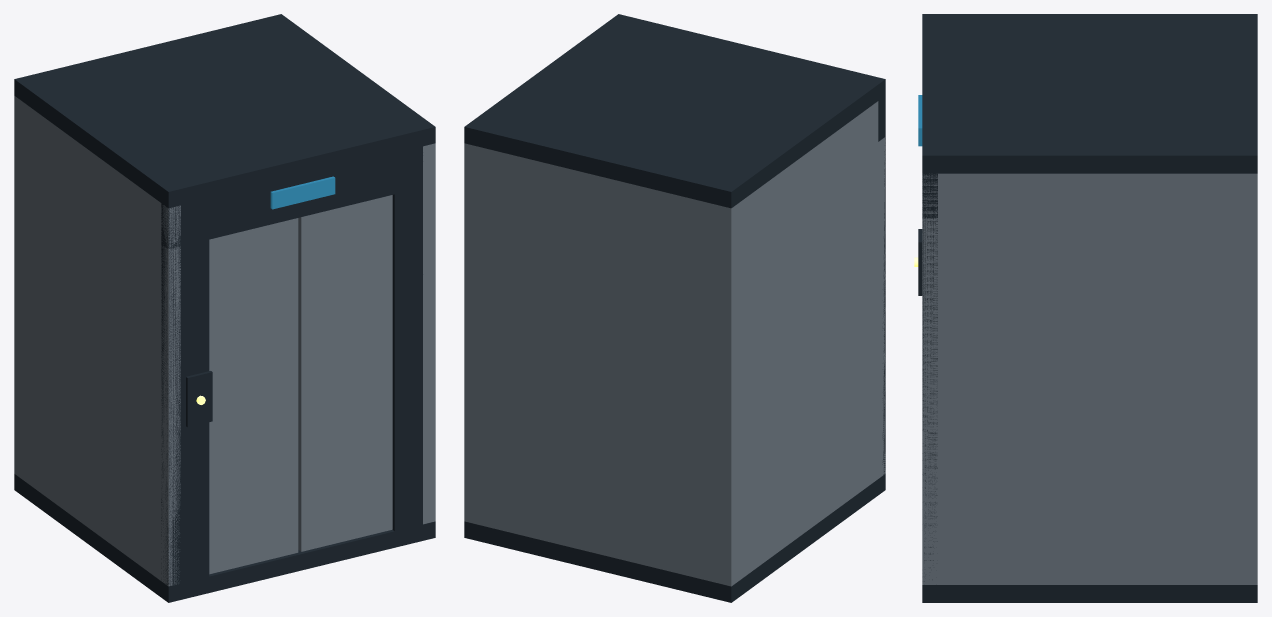
File: elevator-car-lod1.glb
3 renders of one model, left to right at view 1: azimuth 30°, elevation 25°; view 2: azimuth 150°, elevation 25°; view 3: azimuth 270°, elevation 25°, orthographic. The views are drawn at different scales.
Parts seen in each view (by area): view 1: side-wall (×2), door-leaf (×2), ceiling, door-post (×2), lintel, floor, back-wall, call-panel, floor-display; view 2: back-wall, side-wall (×2), ceiling, floor, door-post; view 3: side-wall, ceiling, back-wall, floor, door-post, lintel.
Part boxes in pixels (x1,y1,x2,y2): side-wall (×2): (19, 101, 435, 586); door-leaf (×2): (209, 195, 392, 574); ceiling: (14, 14, 435, 208); door-post (×2): (161, 146, 422, 585); lintel: (161, 147, 422, 248); floor: (14, 474, 435, 602); back-wall: (14, 96, 21, 478); call-panel: (186, 371, 212, 427); floor-display: (270, 176, 335, 209); back-wall: (464, 144, 738, 586); side-wall (×2): (464, 101, 885, 586); ceiling: (464, 14, 885, 208); floor: (464, 474, 885, 602); door-post: (882, 137, 885, 474); side-wall: (922, 173, 1256, 584); ceiling: (922, 14, 1257, 173); back-wall: (1242, 173, 1257, 584); floor: (922, 585, 1257, 602); door-post: (922, 174, 937, 581); lintel: (922, 173, 937, 218).
Bounding box in the file's own units: 1.7 × 2.5 × 1.74.
